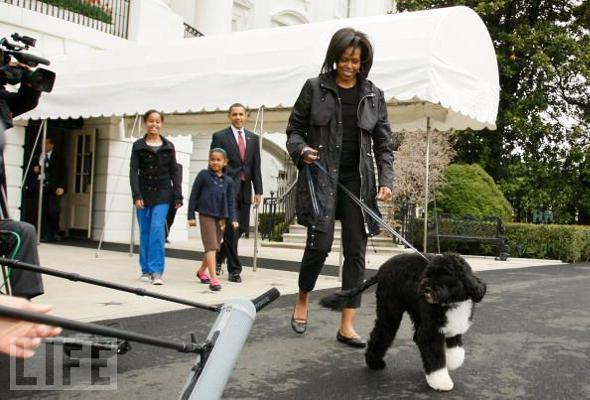person: (287, 28, 394, 348)
